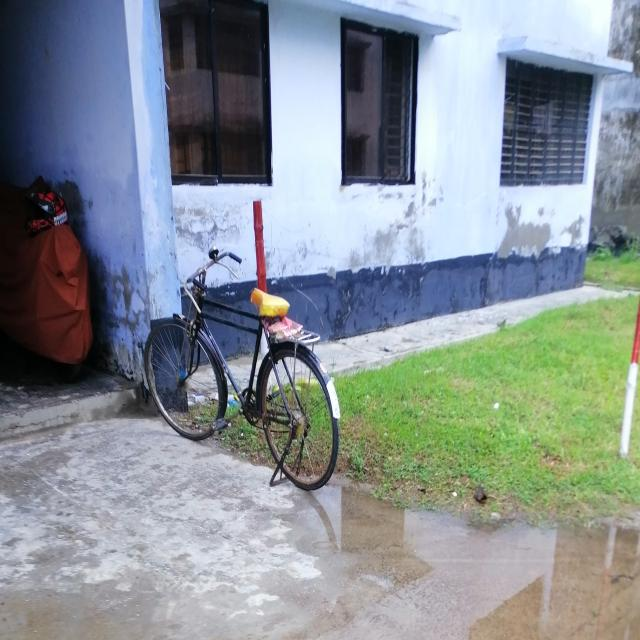Bicycle: (139, 245, 344, 492)
